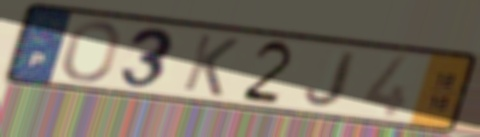2: (240, 39, 296, 107)
3: (116, 24, 185, 92)
4: (359, 53, 413, 121)
J: (302, 49, 362, 109)
K: (178, 31, 242, 99)
O: (60, 19, 123, 84)
